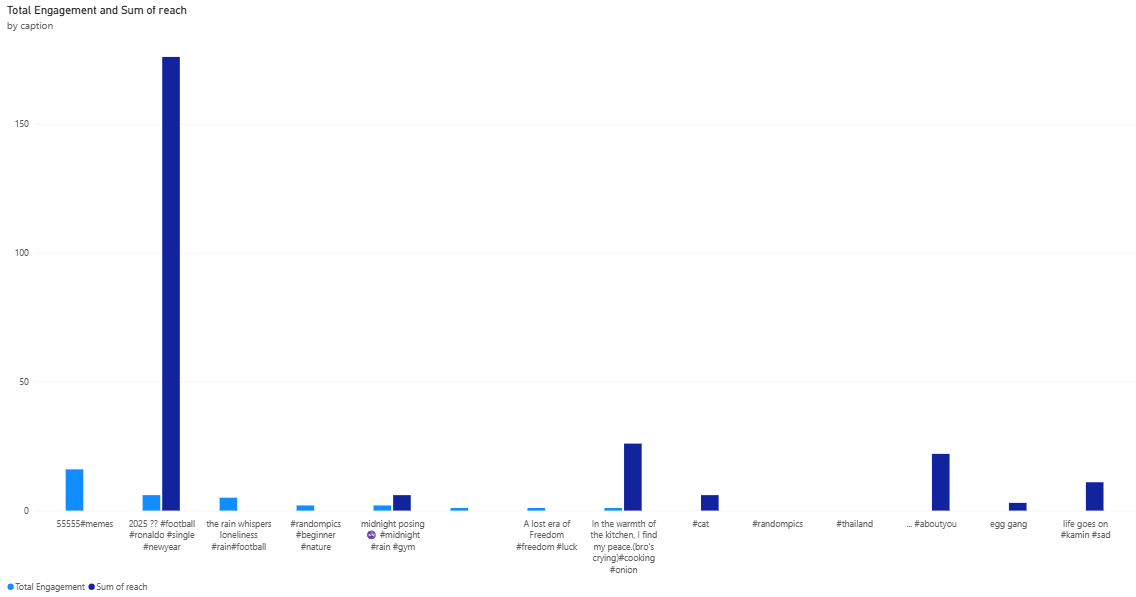

The dashboard page shown, as its layout file describes it:
{"tool":"powerbi","page":{"name":"Page 2","canvas":[1920,1080],"ordinal":1},"visuals":[{"type":"clusteredColumnChart","fields":{"Category":["instagram_posts.caption"],"Y":["instagram_posts.Total Engagement","Sum(instagram_posts.reach)"]},"box":[10.3,0,1840.1,979.8],"z":0}]}

Visuals, with their boxes on the page's 1920x1080 design canvas (x1, y1, x2, y2). These are canvas units, not pixel positions in the 1136x597 screenshot, which may show the page scaled, cropped or inside an application window:
clusteredColumnChart - instagram_posts.caption x instagram_posts.Total Engagement: detection(10, 0, 1850, 980)
